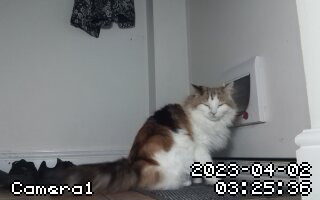clara: (76, 83, 248, 199)
